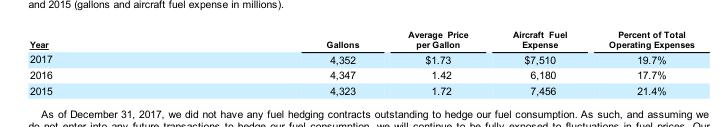table: (29, 28, 693, 95)
table column: (188, 28, 382, 95), (29, 28, 188, 95), (382, 28, 489, 95), (587, 28, 693, 95), (489, 28, 587, 95)
table column header: (29, 28, 693, 51)
table row: (29, 28, 693, 51), (29, 51, 693, 67), (29, 67, 693, 82), (29, 82, 693, 95)
